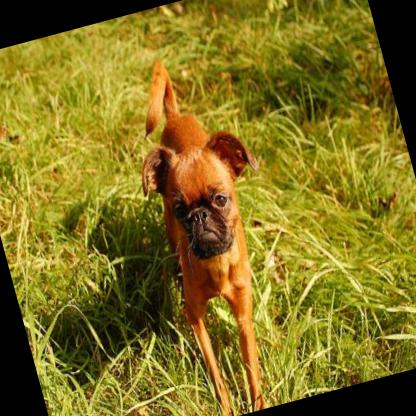Brabancon_griffon: (108, 37, 319, 416)
